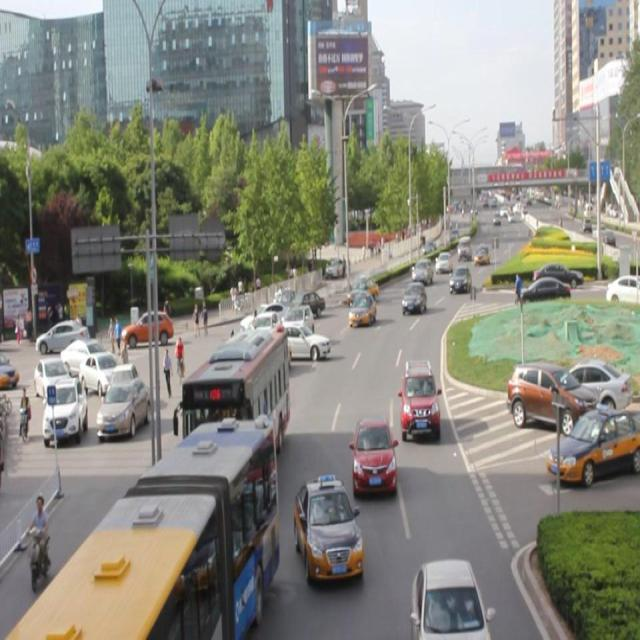car: (294, 476, 363, 575), (410, 556, 490, 640), (351, 415, 395, 494), (400, 356, 440, 439), (276, 319, 331, 364), (241, 301, 287, 338), (211, 345, 245, 395), (255, 335, 294, 376), (279, 304, 312, 350), (250, 311, 282, 356), (282, 288, 326, 316), (349, 291, 377, 328), (346, 275, 378, 303), (402, 282, 427, 314), (448, 264, 472, 293), (411, 254, 432, 286)
van: (9, 417, 277, 640), (182, 326, 290, 461)
